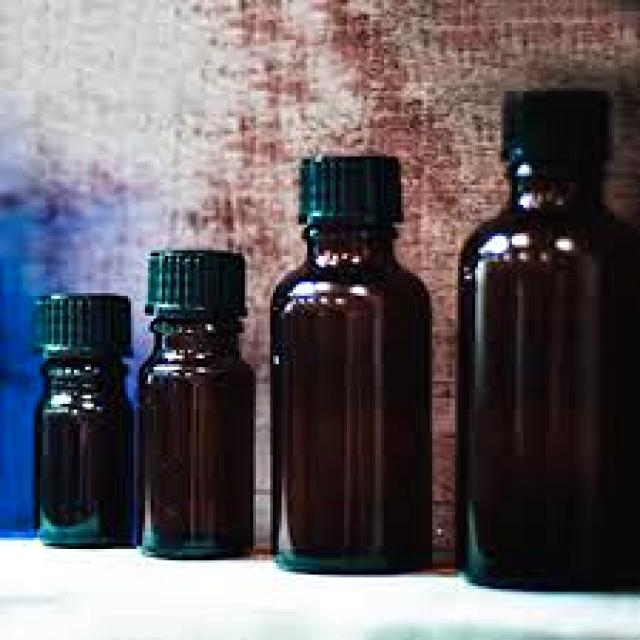Glass: (452, 87, 640, 593), (266, 148, 436, 579), (139, 248, 257, 560), (31, 291, 137, 552)
